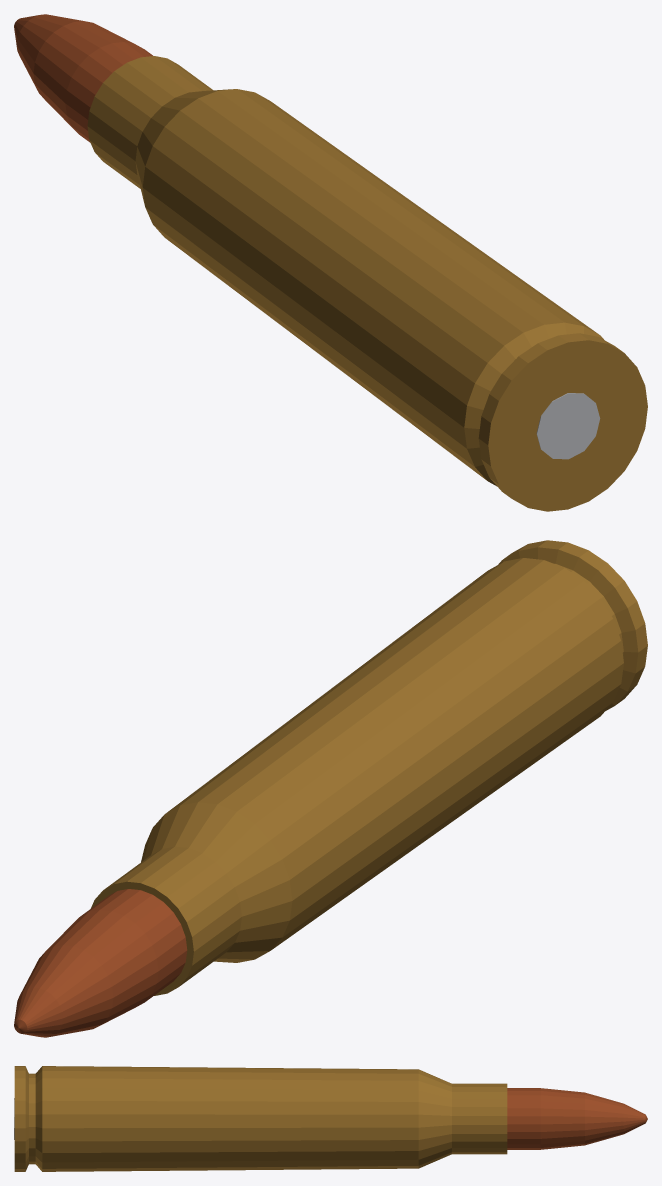
The model's file is municao_556.glb.
3 views of the same model, one above another, from view 1: azimuth 30°, elevation 25°; view 2: azimuth 150°, elevation 25°; view 3: azimuth 270°, elevation 25° (orthographic). The views are drawn at different scales.
Visible parts, largest first — view 1: municao_556_latao, municao_556_cobre_bala, municao_556_aco_inox; view 2: municao_556_latao, municao_556_cobre_bala; view 3: municao_556_latao, municao_556_cobre_bala.
Part boxes in pixels (<box>): municao_556_latao: <box>87,56,647,511</box>; municao_556_cobre_bala: <box>14,14,152,142</box>; municao_556_aco_inox: <box>536,393,600,459</box>; municao_556_latao: <box>91,540,647,995</box>; municao_556_cobre_bala: <box>14,889,187,1037</box>; municao_556_latao: <box>14,1066,507,1171</box>; municao_556_cobre_bala: <box>507,1088,647,1149</box>.
Bounding box in the file's own units: 0.0096 × 0.0096 × 0.0573.
